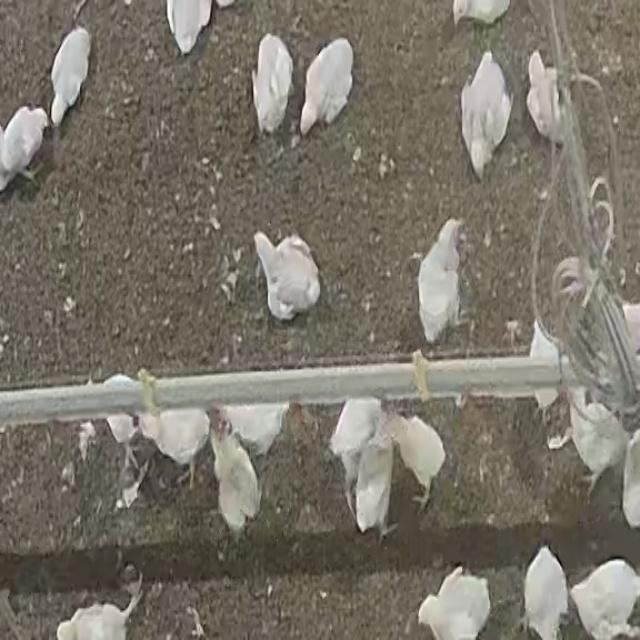chicken: (254, 224, 328, 321), (415, 214, 470, 338), (458, 52, 511, 180), (133, 403, 212, 485), (411, 567, 494, 640), (386, 411, 445, 509), (209, 424, 260, 534), (298, 36, 354, 134), (348, 441, 402, 531), (522, 544, 570, 640), (0, 105, 50, 195), (50, 25, 92, 128), (252, 34, 294, 135), (527, 50, 569, 150)
